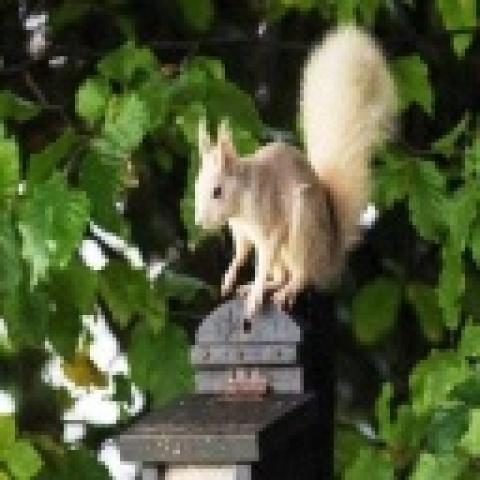small_animal: (184, 19, 398, 315)
